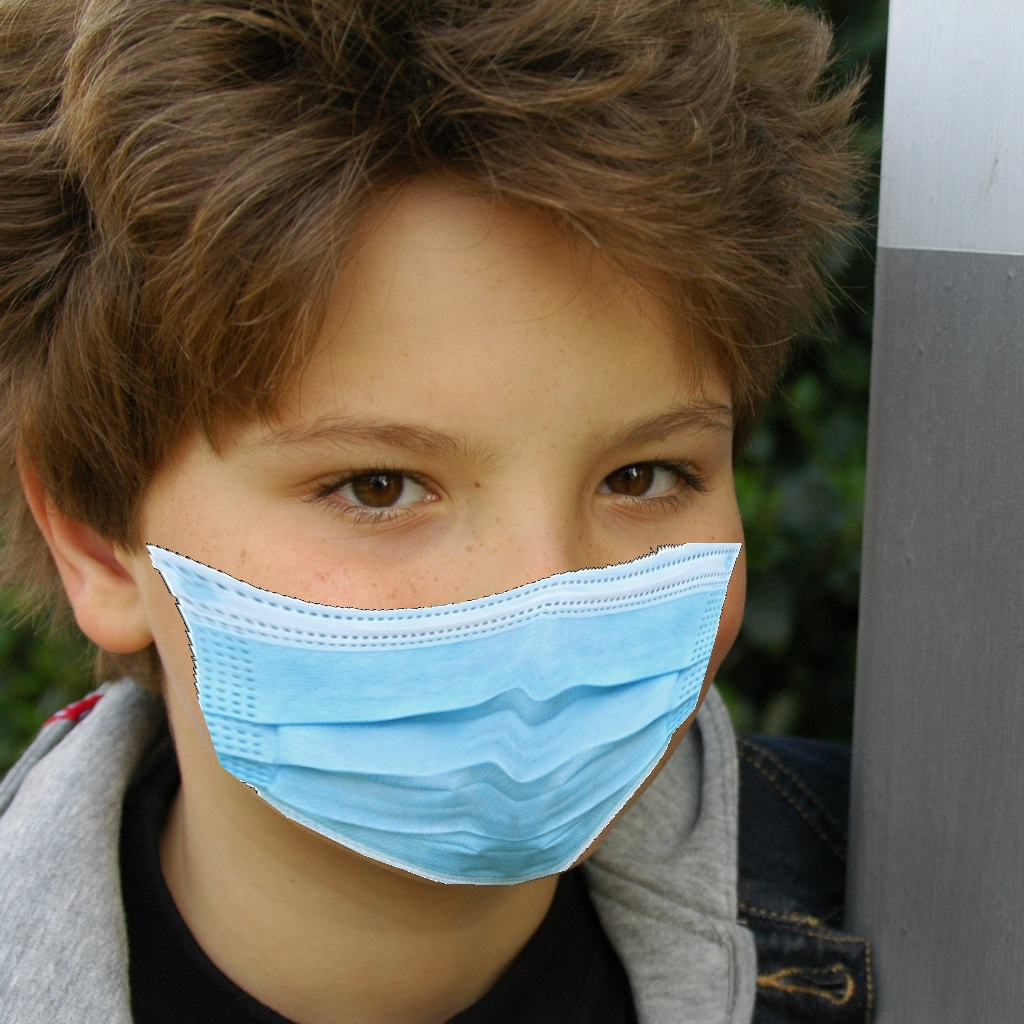with_mask: (182, 364, 752, 893)
